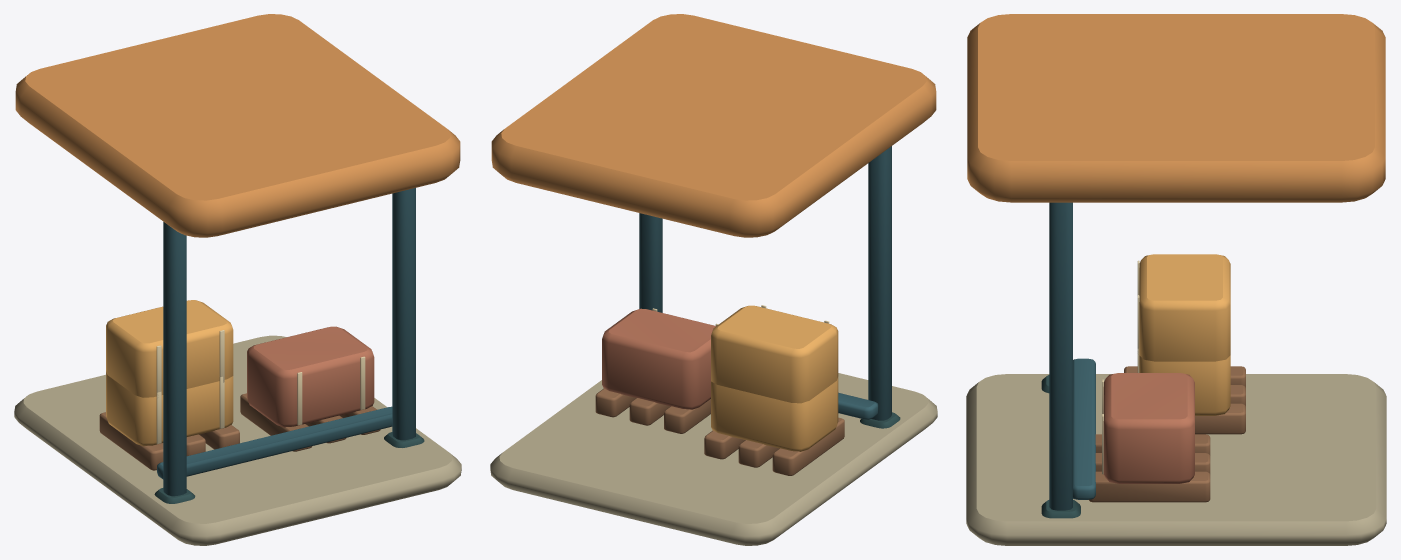
The model's file is harbor_coldstore_2.glb.
3 views of the same model, side by side, from view 1: azimuth 30°, elevation 25°; view 2: azimuth 150°, elevation 25°; view 3: azimuth 270°, elevation 25° (orthographic). The views are drawn at different scales.
Parts seen in each view (by area): view 1: HarborColdstore2; view 2: HarborColdstore2; view 3: HarborColdstore2.
Part boxes in pixels (<box>): HarborColdstore2: <box>14,14,461,545</box>; HarborColdstore2: <box>490,14,937,545</box>; HarborColdstore2: <box>966,14,1386,545</box>.
Bounding box in the file's own units: 2.18 × 2.51 × 2.48.
